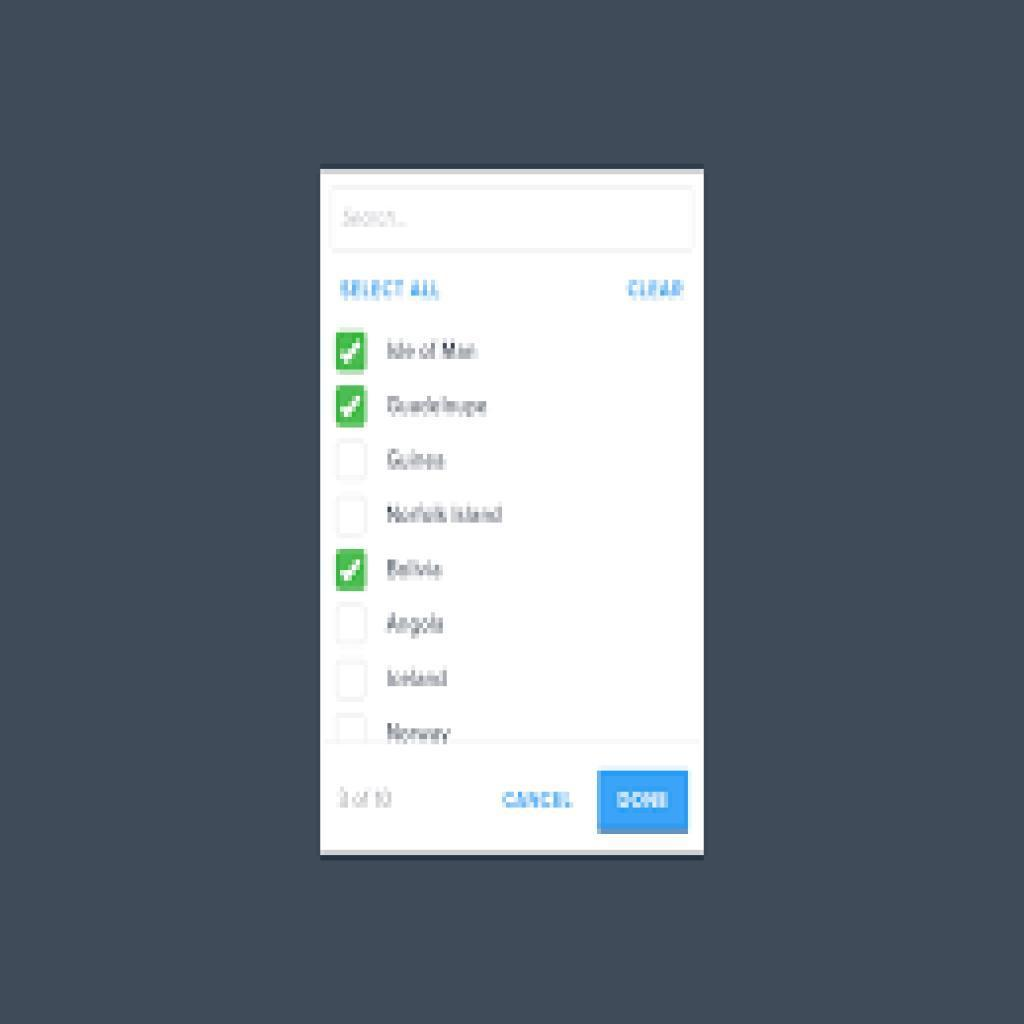button: (598, 772, 688, 834)
checkbox: (337, 331, 368, 373), (338, 549, 366, 594), (337, 388, 368, 428), (337, 496, 366, 538), (337, 663, 368, 702), (338, 442, 367, 480), (336, 608, 367, 642), (336, 714, 369, 744)
input: (332, 187, 697, 249)
label: (386, 391, 499, 426), (386, 500, 512, 531), (386, 334, 482, 365), (502, 785, 575, 823), (386, 659, 454, 690), (384, 446, 454, 476), (386, 554, 449, 586), (382, 608, 448, 636), (388, 720, 462, 744)
